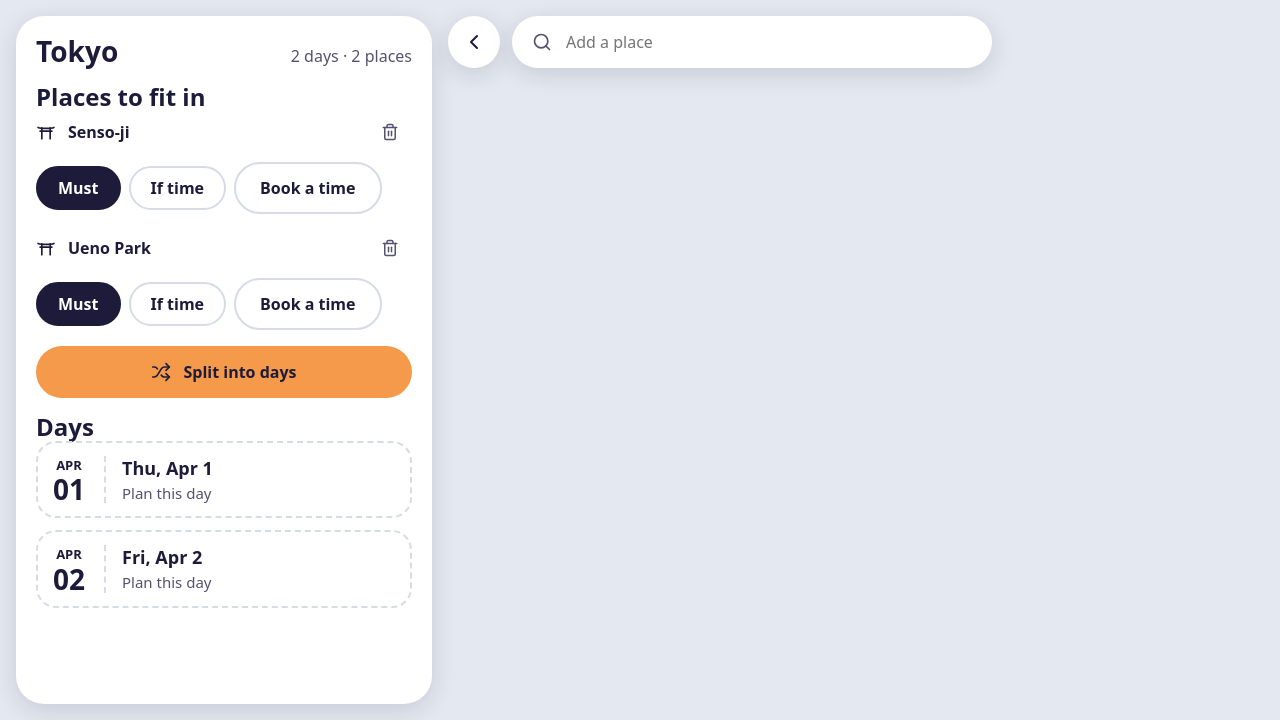
Test: the stay screen › numbers the places on the map with their proposed day
The width and height of the screenshot is (1280, 720).
Click the button "Split into days": (224, 372) [36,346,412,398]
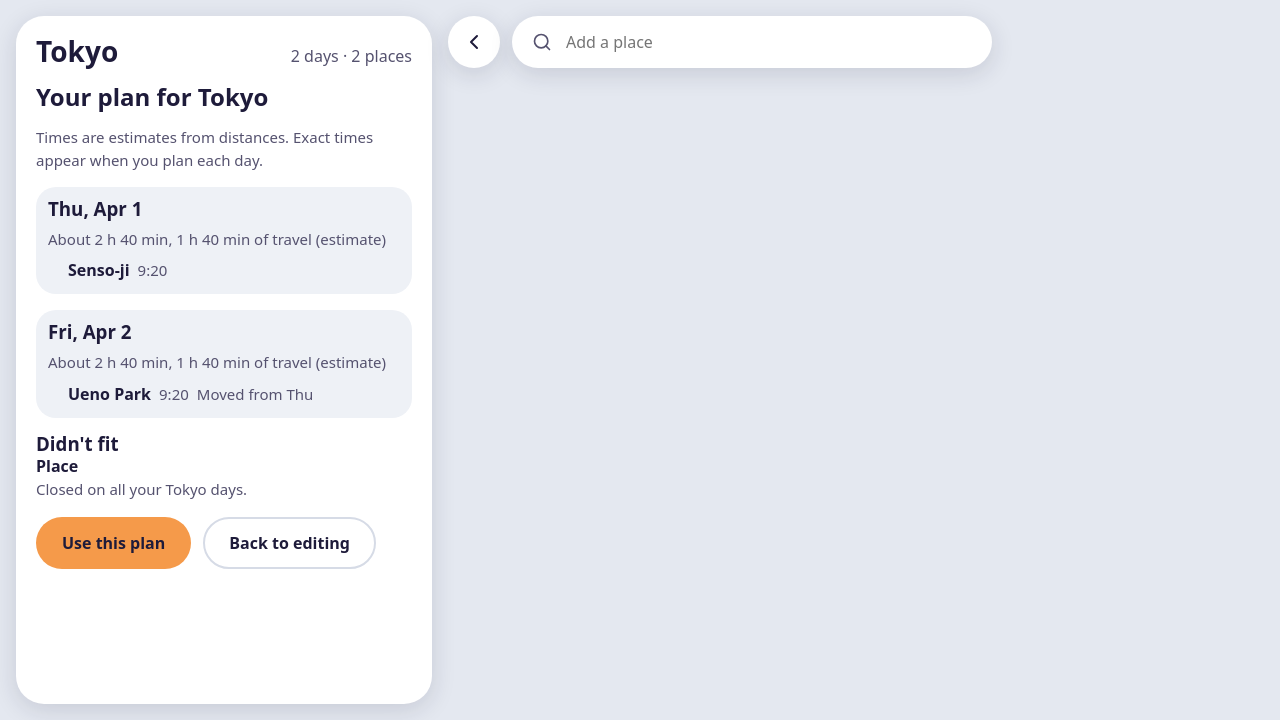
Expected: the heading "Your plan for Tokyo" is shown, [36,80,268,113]
